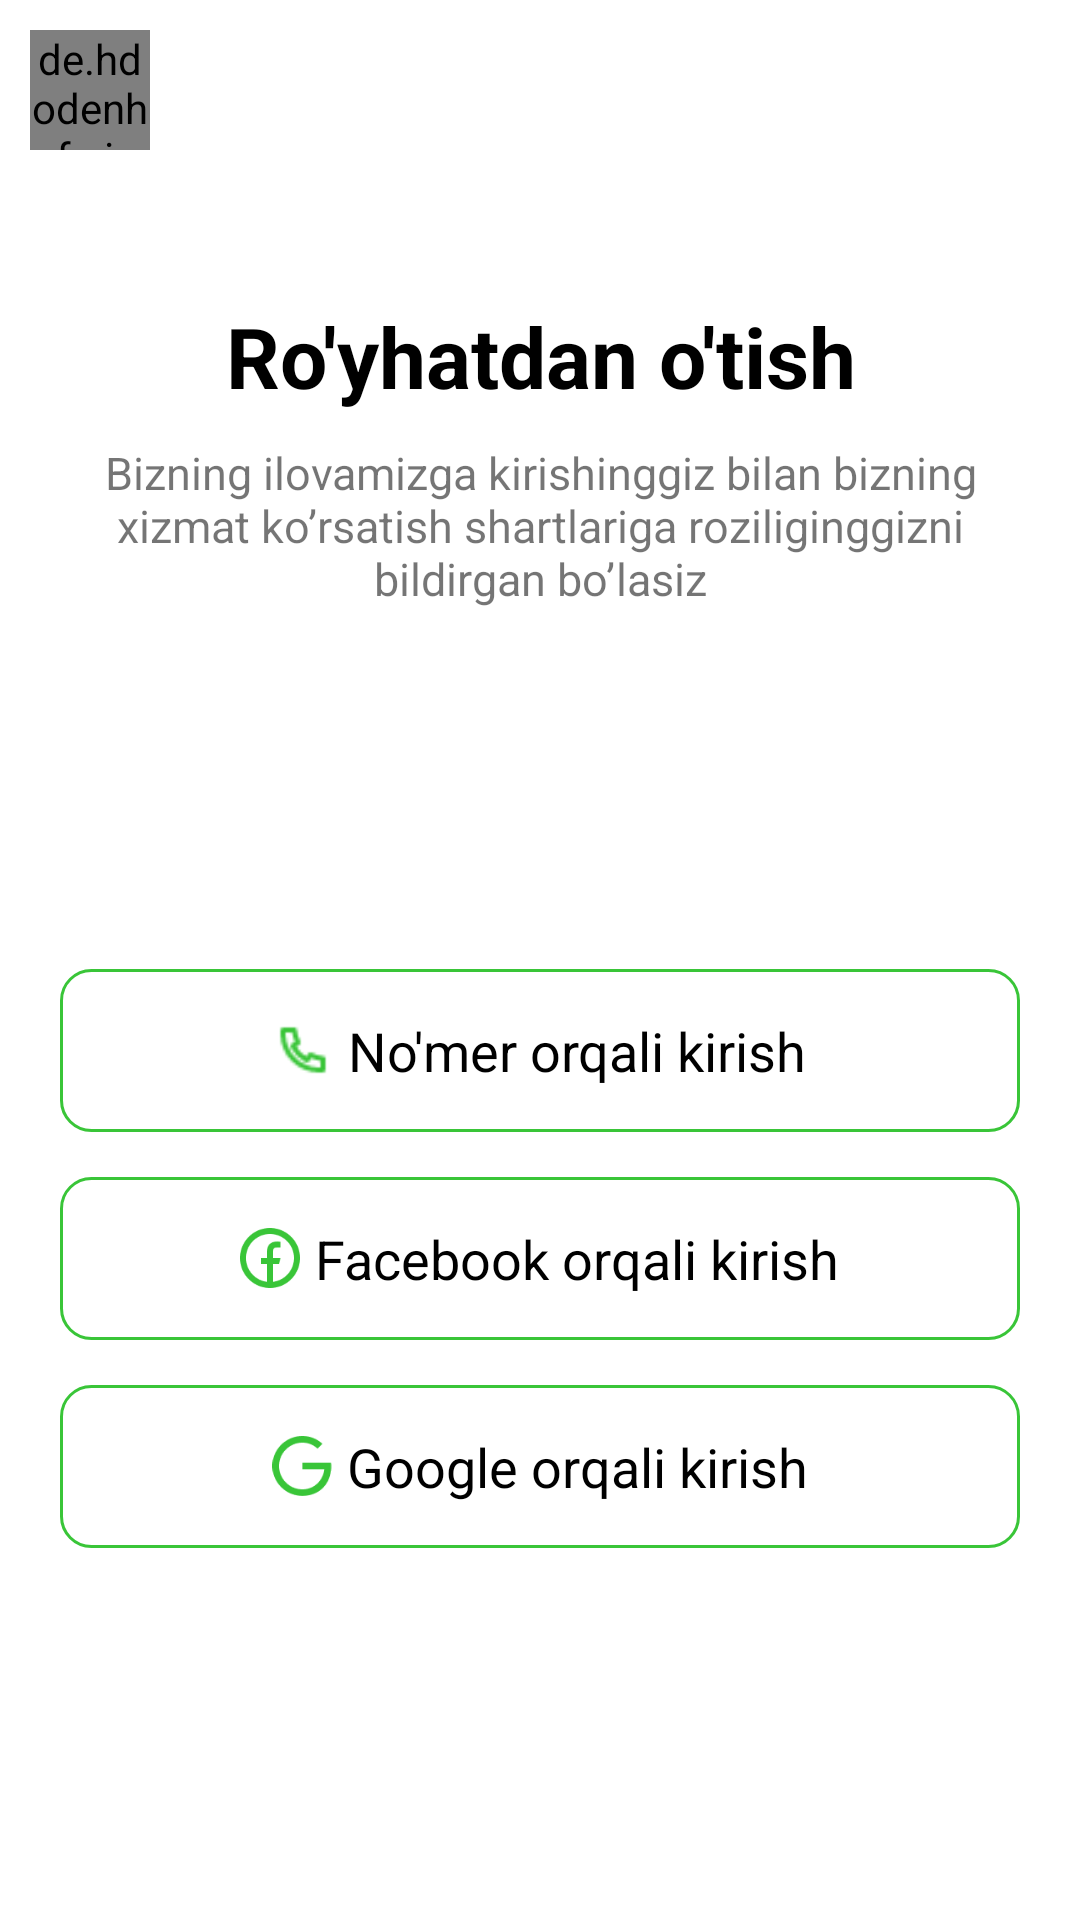

Where icons sit on this 1080*1920 app screen, as Rect(x1, y1, x2, y2):
phone: Rect(280, 1027, 326, 1073)
